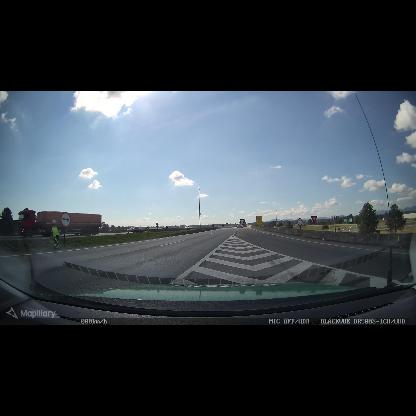O-MP: (146, 227, 149, 236)
R-2: (310, 216, 317, 224)
R-24a: (60, 212, 71, 228), (297, 218, 302, 226)
